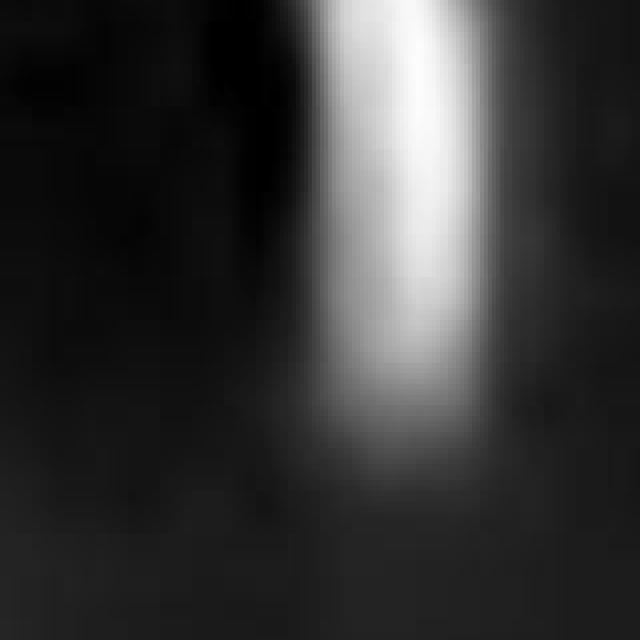person: (201, 1, 513, 460)
